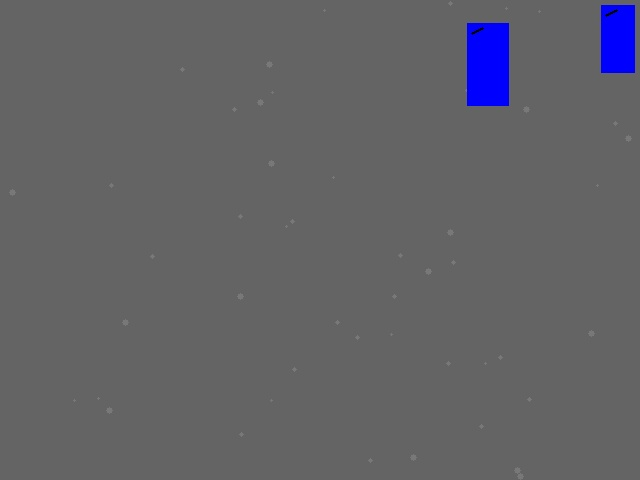motorcycle: (467, 23, 508, 105), (601, 5, 634, 72)
